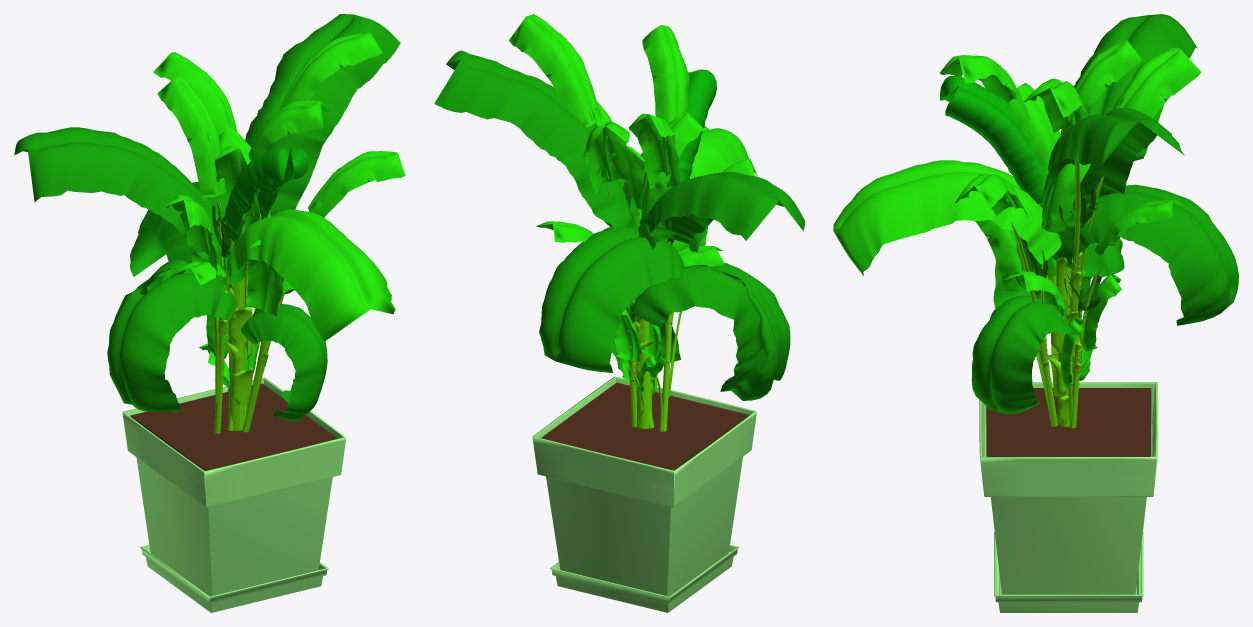
Rendered from POT3D.glb.
3 renders of one model, left to right at view 1: azimuth 30°, elevation 25°; view 2: azimuth 150°, elevation 25°; view 3: azimuth 270°, elevation 25°, orthographic. The views are drawn at different scales.
Parts seen in each view (by area): view 1: Leaf2, Leaf1, 38L, Cube, Base, Leaf3, strelitzia; view 2: Leaf2, 38L, Leaf1, Cube, Base, Leaf3; view 3: Leaf1, Leaf2, 38L, Cube, Base, Leaf3, strelitzia.
Boxes of the visible parts, x1,y1,x2,y2 form: Leaf2: [14, 14, 400, 421]; Leaf1: [153, 31, 405, 391]; 38L: [122, 377, 346, 612]; Cube: [130, 383, 337, 470]; Base: [213, 199, 284, 433]; Leaf3: [222, 147, 308, 241]; strelitzia: [212, 201, 294, 299]; Leaf2: [434, 50, 804, 400]; 38L: [532, 376, 756, 612]; Leaf1: [509, 14, 757, 393]; Cube: [541, 382, 749, 470]; Base: [607, 190, 681, 431]; Leaf3: [637, 69, 716, 203]; Leaf1: [833, 39, 1201, 388]; Leaf2: [971, 14, 1238, 414]; 38L: [979, 382, 1158, 612]; Cube: [986, 388, 1151, 456]; Base: [1010, 159, 1104, 428]; Leaf3: [940, 76, 1046, 203]; strelitzia: [1015, 183, 1101, 318].
Size of the model in its own units: 52.16 by 71.85 by 46.89.
